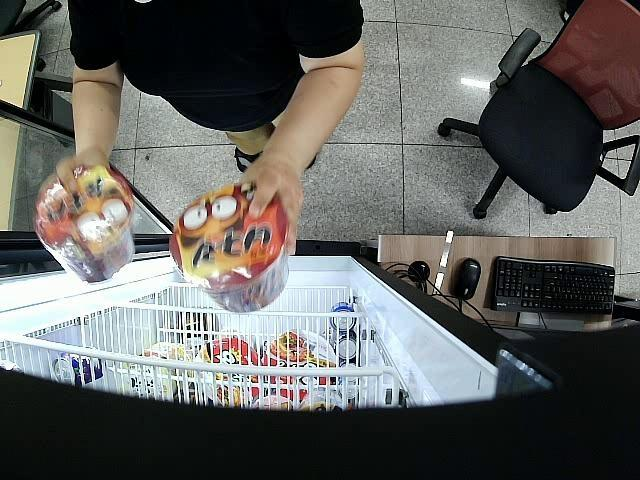05_nuguri_L: (168, 182, 290, 312), (34, 164, 134, 286)
